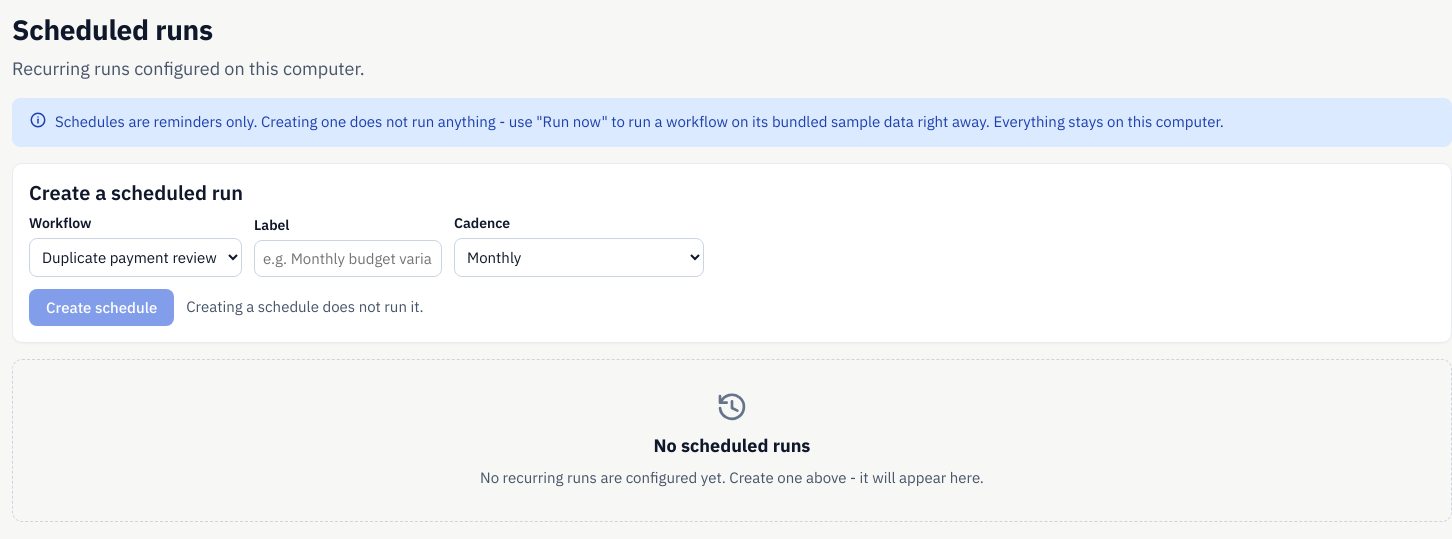
Scenario: SchedulesPage create form (GW-17) › requires an interval for custom cadence
The width and height of the screenshot is (1452, 539).
Type "Every two weeks" into the field labelled "Label" at x=348, y=258, box left=254, top=240, right=442, bottom=276
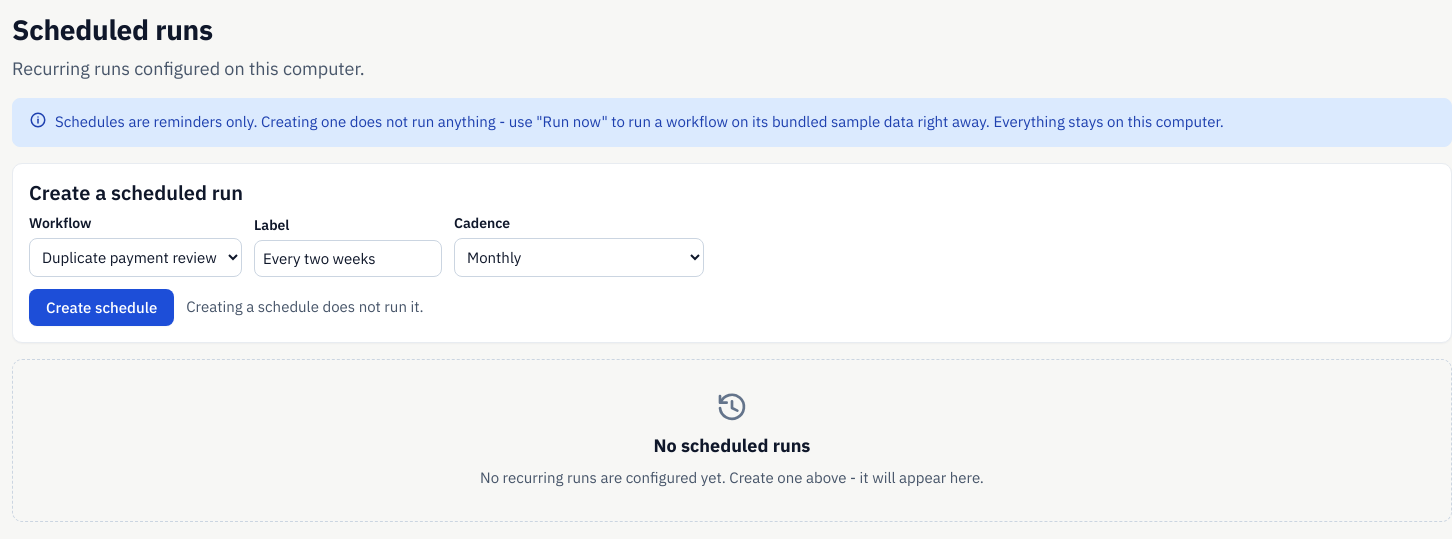
Select "Custom (set an interval in days)" in the dropdown labelled "Cadence" at x=579, y=257, box left=454, top=238, right=704, bottom=276
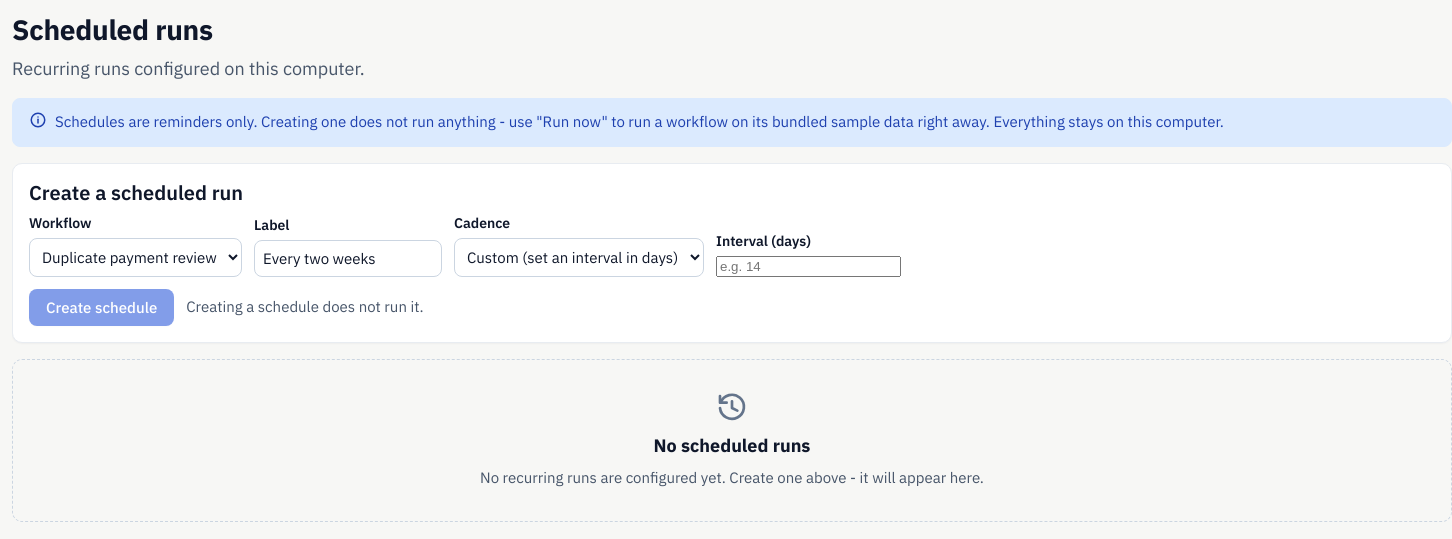
Result: the number field labelled "Interval (days)" is shown at left=716, top=256, right=901, bottom=276
Result: the button "Create schedule" is disabled at left=29, top=288, right=174, bottom=326
